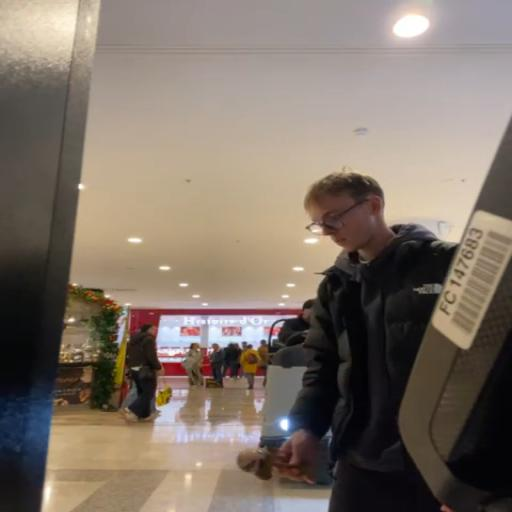kendama_ball: (237, 447, 269, 474)
